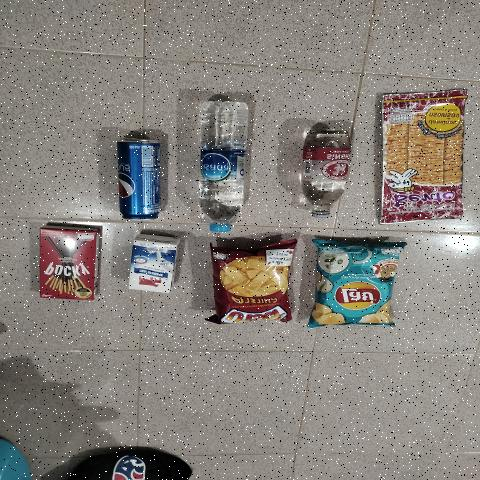bento_red: (375, 89, 465, 223)
crystal: (197, 98, 247, 234)
lay_blue: (314, 241, 395, 325)
party_red: (222, 243, 290, 326)
pepsi_blue: (111, 136, 167, 221)
pokki: (38, 227, 95, 301)
singha_soda: (304, 126, 355, 218)
thai_denmark: (127, 239, 176, 290)
